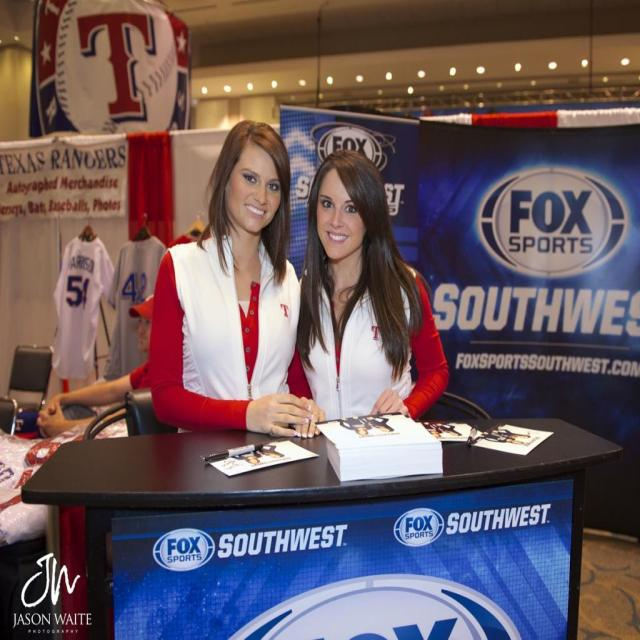nomask: (228, 141, 284, 233), (312, 170, 368, 260)
